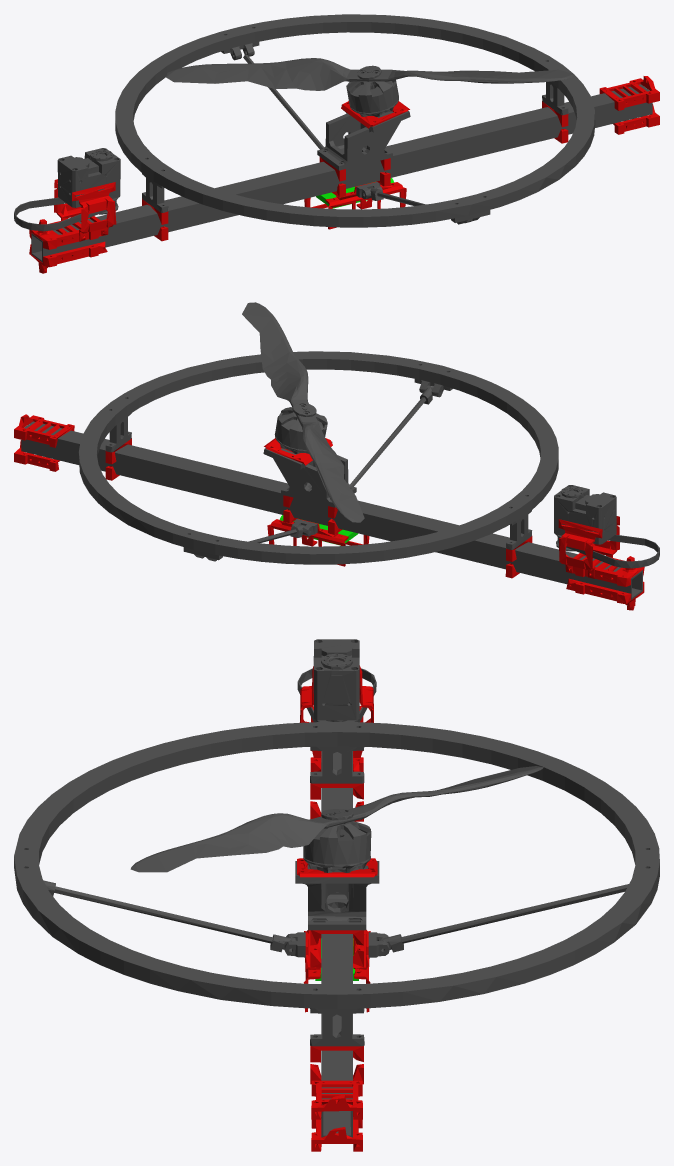
The model's file is tilt_10deg_15inch_link4.dae.
3 views of the same model, one above another, from view 1: azimuth 30°, elevation 25°; view 2: azimuth 150°, elevation 25°; view 3: azimuth 270°, elevation 25° (orthographic). The views are drawn at different scales.
Parts seen in each view (by area): view 1: link4_tilt_15inch_black, link4_tilt_15inch_red; view 2: link4_tilt_15inch_black, link4_tilt_15inch_red; view 3: link4_tilt_15inch_black, link4_tilt_15inch_red.
Boxes of the visible parts, <box> form: link4_tilt_15inch_black: <box>14,14,652,262</box>; link4_tilt_15inch_red: <box>29,76,659,273</box>; link4_tilt_15inch_black: <box>21,302,659,599</box>; link4_tilt_15inch_red: <box>14,414,644,610</box>; link4_tilt_15inch_black: <box>14,639,659,1137</box>; link4_tilt_15inch_red: <box>297,665,377,1151</box>.
Bounding box in the file's own units: 0.6083 × 0.4001 × 0.1437.
